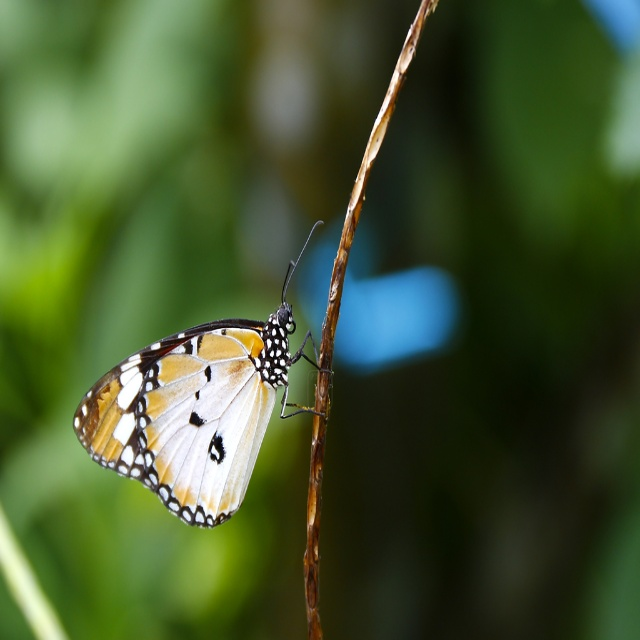Butterfly: (75, 228, 333, 528)
